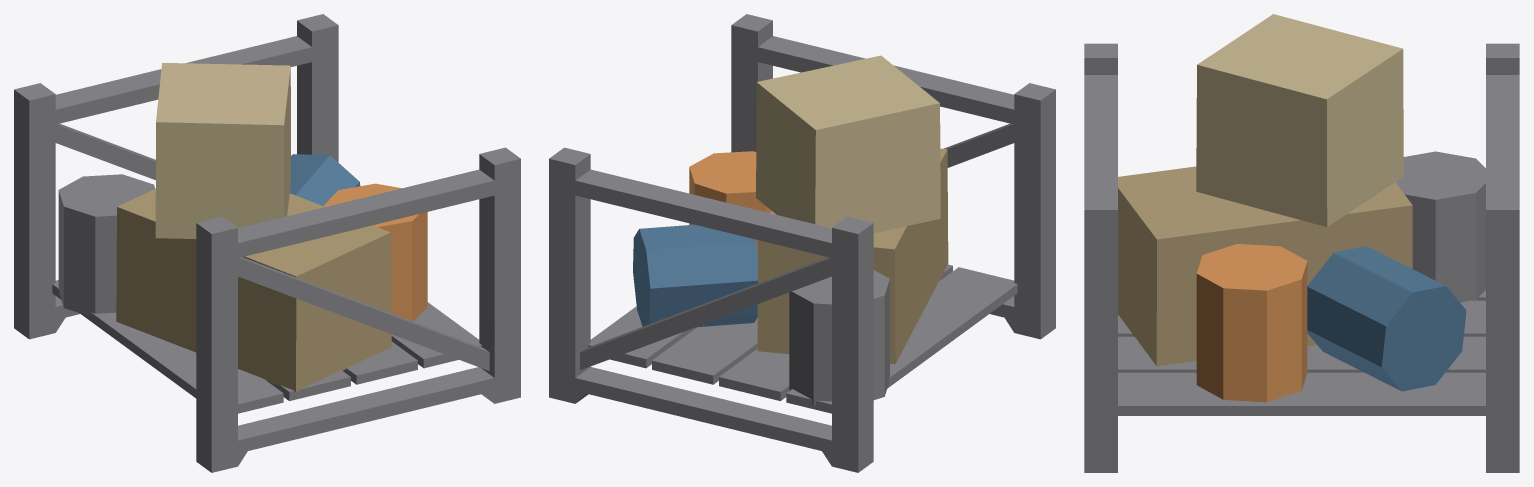
File: shelf small.fbx
The picture shows the model from 3 angles, left to right: view 1: azimuth 30°, elevation 25°; view 2: azimuth 150°, elevation 25°; view 3: azimuth 270°, elevation 25°; orthographic projection. The views are drawn at different scales.
Visible parts, largest first — view 1: shelf small; view 2: shelf small; view 3: shelf small.
Boxes of the visible parts, x1,y1,x2,y2 form: shelf small: (14,14,520,472); shelf small: (549,14,1055,472); shelf small: (1084,14,1519,472).
Size of the model in its own units: 57.73 by 50.1 by 63.91.
Materials: 1 (1 with a texture image).
